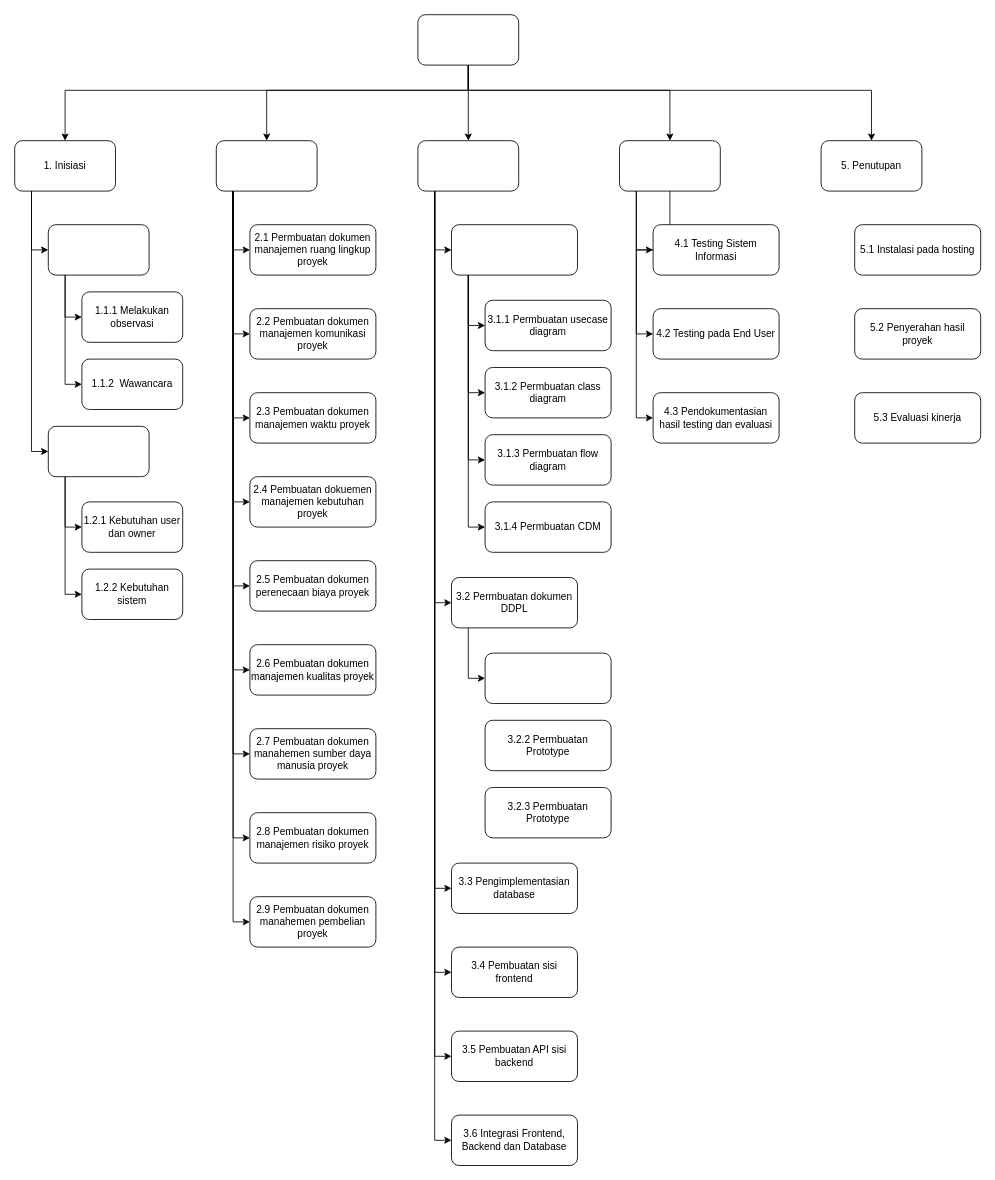
Some shapes in this 995 by 1180 pixel diagram are drawn without their labels. The centre of each missing label's shape, as x and y in pixels:
"0. Nikita Futsal" belongs at (x=468, y=39).
"1.1 Pengumpulan informasi dan data" belongs at (x=98, y=249).
"1.2 Analisis kebutuhan proyek" belongs at (x=98, y=451).
"2. Perencanaan" belongs at (x=266, y=165).
"3. Eksekusi" belongs at (x=468, y=165).
"3.1 Permbuatan dokumen SKPL" belongs at (x=514, y=249).
"3.2.1 Permbuatan PDM" belongs at (x=547, y=678).
"4. Mentoring & Controling" belongs at (x=669, y=165).
